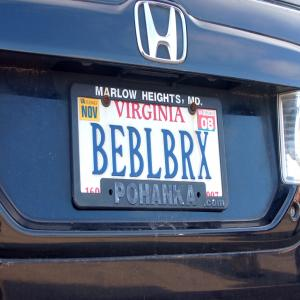Vehicle-registration-plate: (70, 85, 230, 212)
